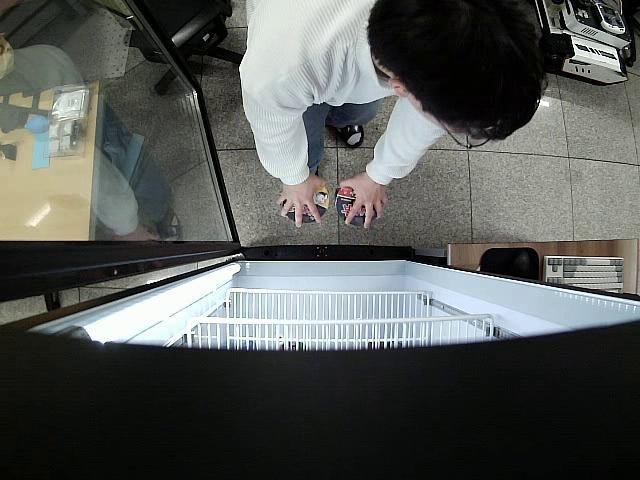07_buldak_L: (282, 190, 331, 224), (332, 186, 377, 223)
